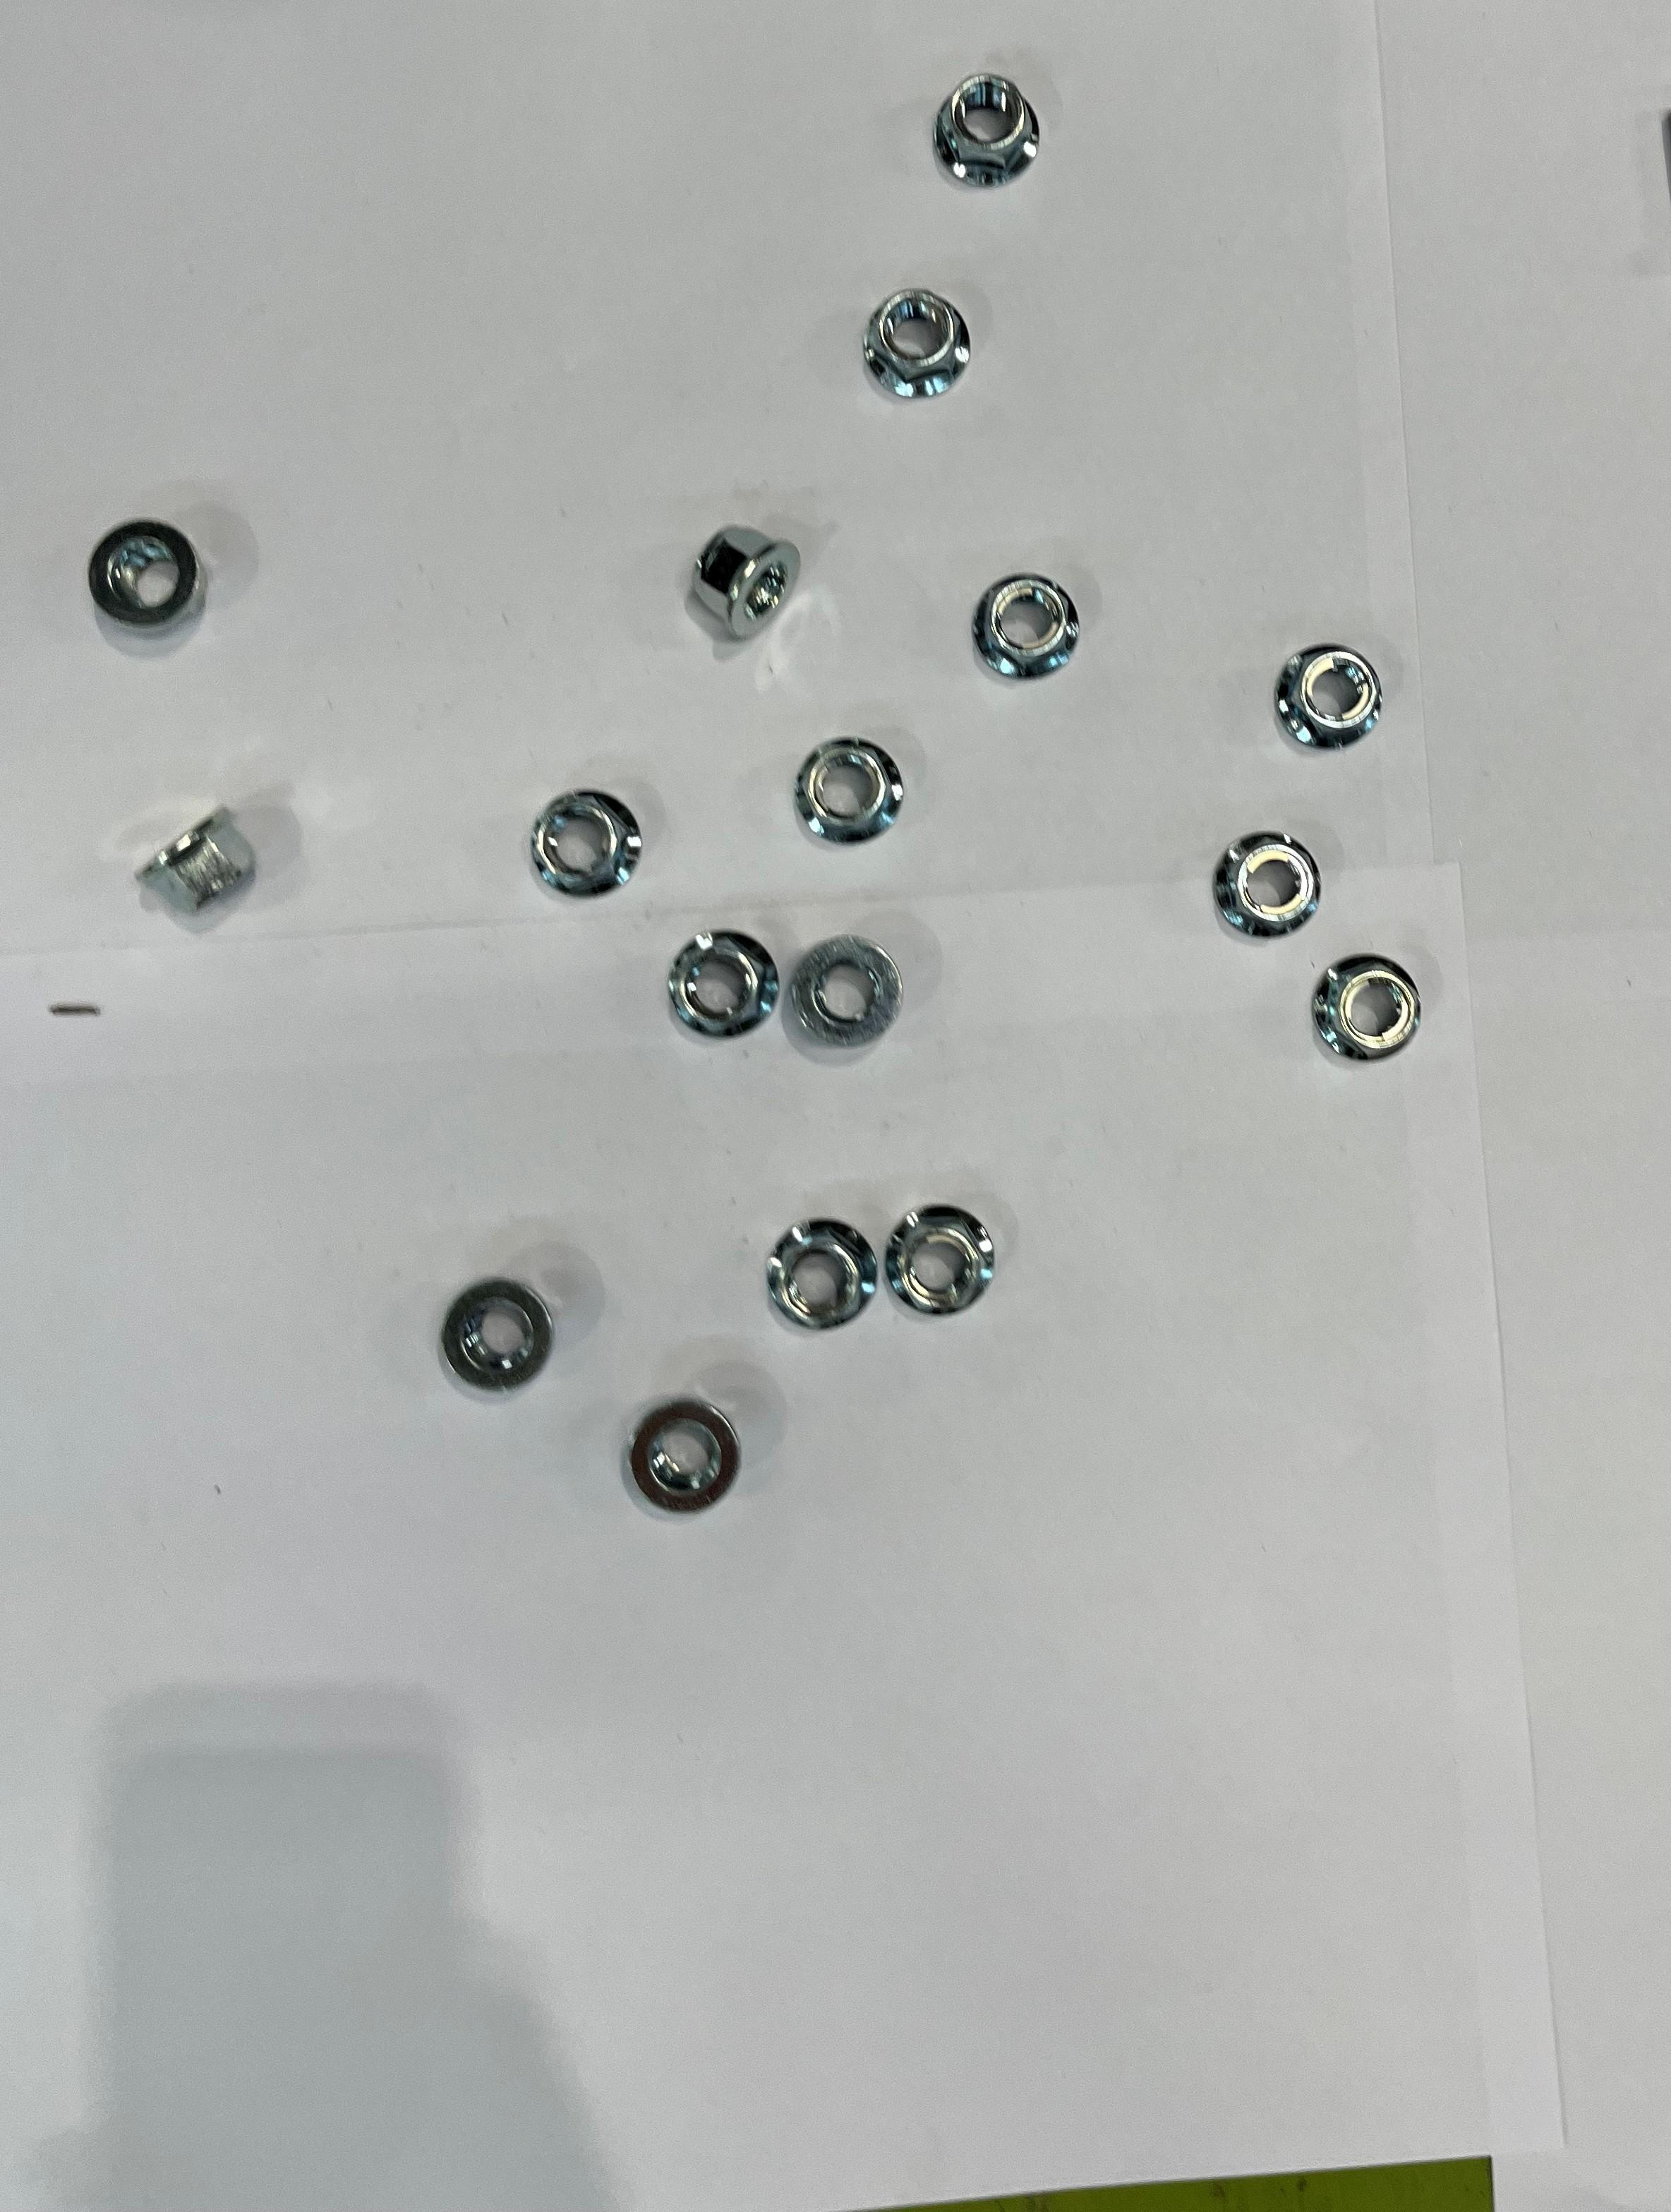Type B: (86, 516, 209, 648), (126, 808, 256, 930), (692, 518, 809, 644), (1274, 625, 1383, 760), (516, 786, 642, 902), (883, 1204, 999, 1320), (1209, 829, 1329, 941), (441, 1280, 555, 1394), (865, 284, 974, 404), (1301, 959, 1422, 1066), (793, 736, 904, 851), (769, 1218, 879, 1334), (627, 1403, 739, 1515), (793, 937, 902, 1053), (972, 569, 1078, 686), (939, 79, 1041, 195), (674, 930, 779, 1041)
